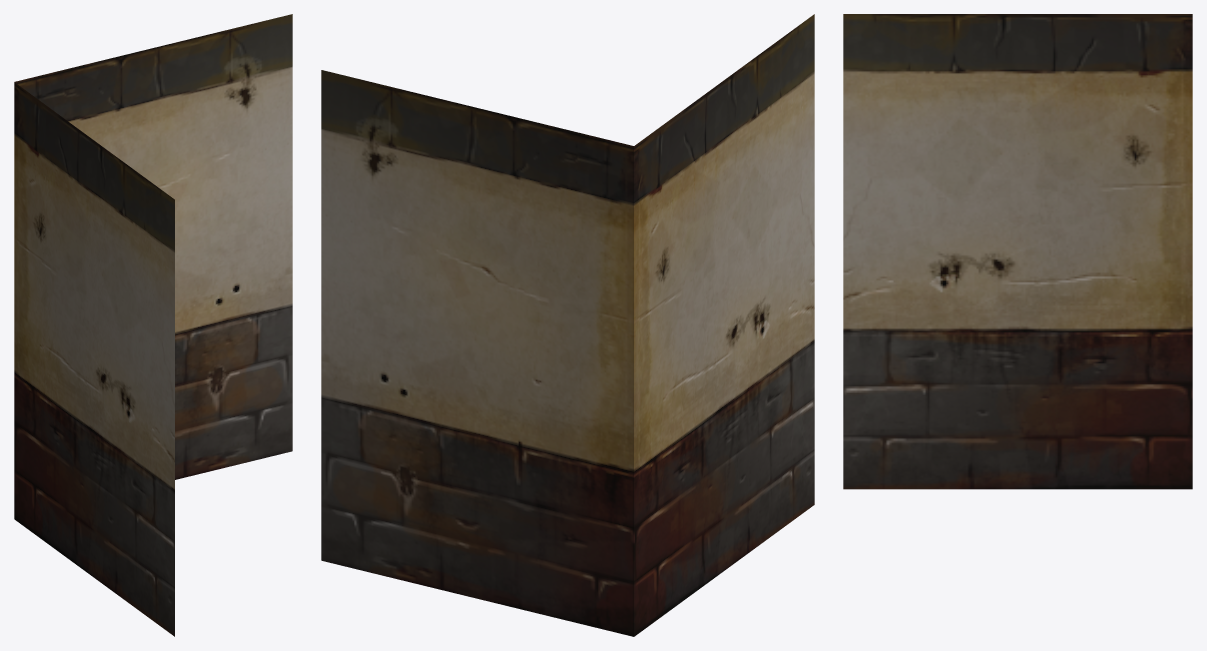
Rendered from wall_corner.FBX.
3 views of the same model, side by side, from view 1: azimuth 30°, elevation 25°; view 2: azimuth 150°, elevation 25°; view 3: azimuth 270°, elevation 25° (orthographic). The views are drawn at different scales.
Visible parts, largest first — view 1: wall_corner; view 2: wall_corner; view 3: wall_corner.
Boxes of the visible parts, x1=… form: wall_corner: x1=14, y1=14, x2=292, y2=636; wall_corner: x1=321, y1=14, x2=814, y2=636; wall_corner: x1=843, y1=14, x2=1192, y2=489.
Bounding box in the file's own units: 180 × 270 × 180.
